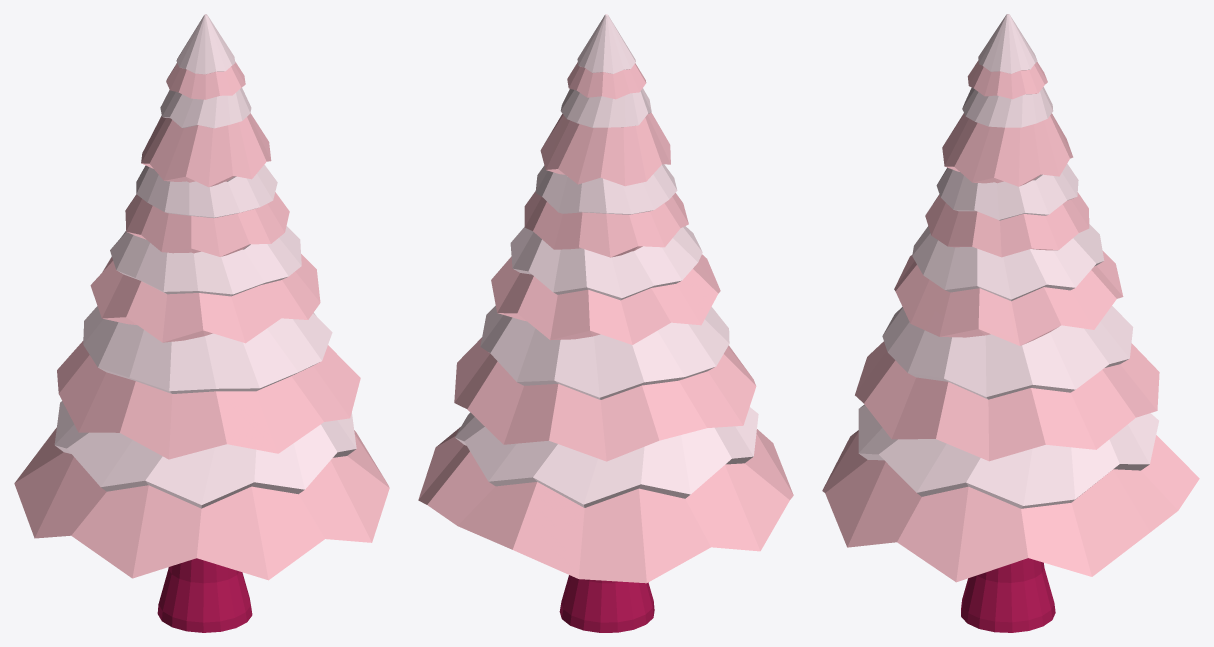
The model's file is tree2.glb.
3 views of the same model, side by side, from view 1: azimuth 30°, elevation 25°; view 2: azimuth 150°, elevation 25°; view 3: azimuth 270°, elevation 25° (orthographic).
Parts seen in each view (by area): view 1: Cylinder.005; view 2: Cylinder.005; view 3: Cylinder.005.
Boxes of the visible parts, box(x1,y1,x2,y2) form: Cylinder.005: box(14, 14, 389, 632); Cylinder.005: box(418, 14, 793, 632); Cylinder.005: box(822, 14, 1199, 632).
Size of the model in its own units: 3.89 by 6.88 by 3.93.
